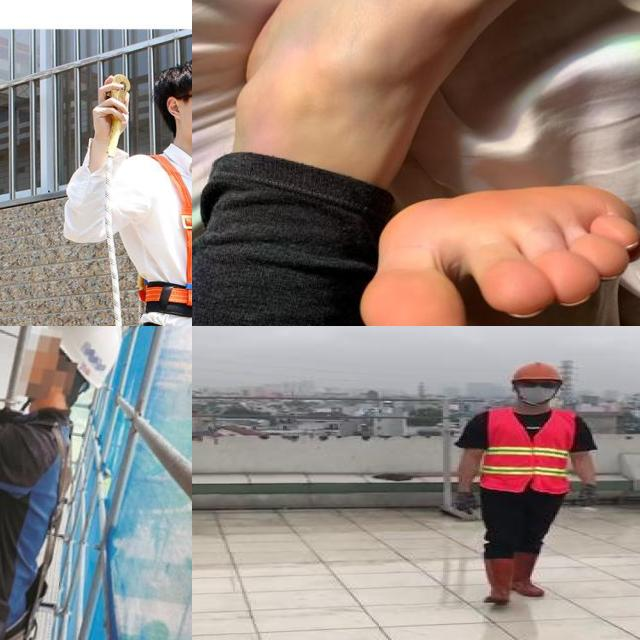Barefoots: (219, 0, 586, 182), (352, 154, 640, 326)
Harness: (127, 142, 192, 326)
boots: (516, 555, 544, 599), (488, 558, 512, 604)
face_mask: (516, 378, 560, 404)
glasses: (516, 379, 560, 390)
hand_glove: (452, 490, 480, 515), (575, 482, 594, 510)
head_helmet: (509, 362, 564, 384)
person: (448, 360, 608, 612)
vest: (484, 407, 571, 493)
